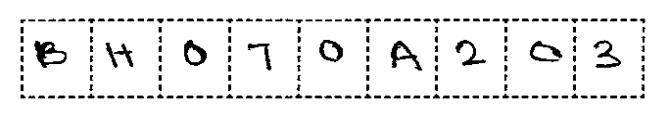0: (525, 37, 566, 68), (312, 34, 348, 69), (177, 33, 210, 68)
2: (447, 36, 489, 72)
3: (587, 36, 628, 76)
7: (238, 38, 276, 73)
A: (384, 37, 427, 76)
B: (32, 38, 70, 74)
H: (99, 36, 138, 74)
